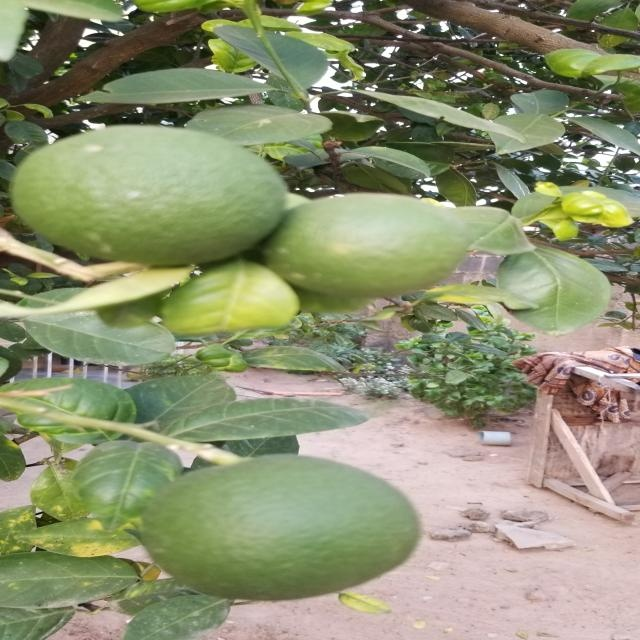agrume: (131, 451, 473, 601), (6, 128, 307, 262), (235, 186, 493, 308)
